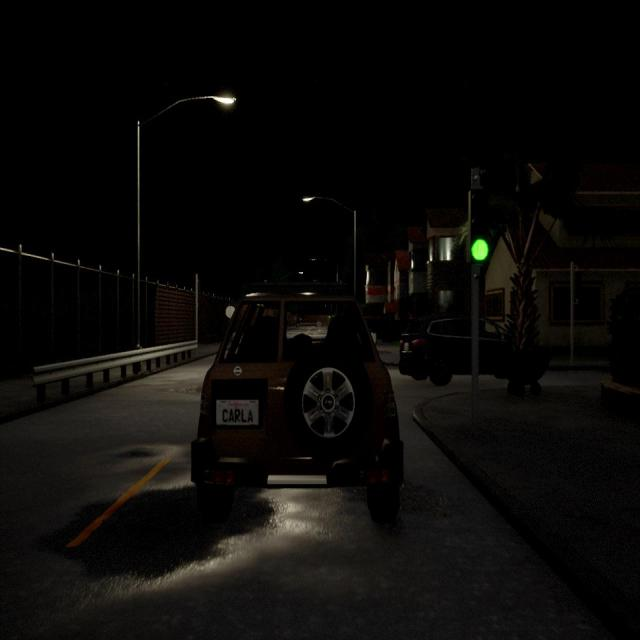Traffic_Signs: (224, 304, 236, 321)
Vehicle: (190, 296, 406, 524), (399, 315, 548, 390)
traffic_light: (469, 190, 492, 263), (574, 270, 582, 300), (328, 315, 331, 319)
